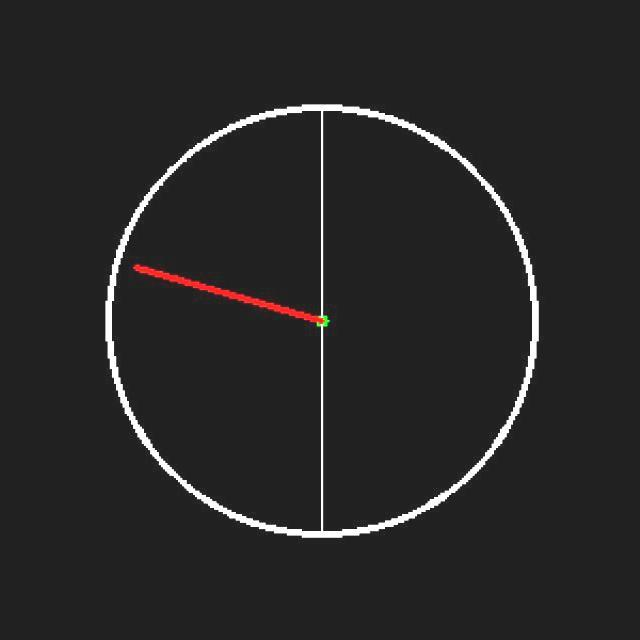Needle_Tip: (108, 240, 174, 302)
Needle_base: (295, 295, 360, 356)
